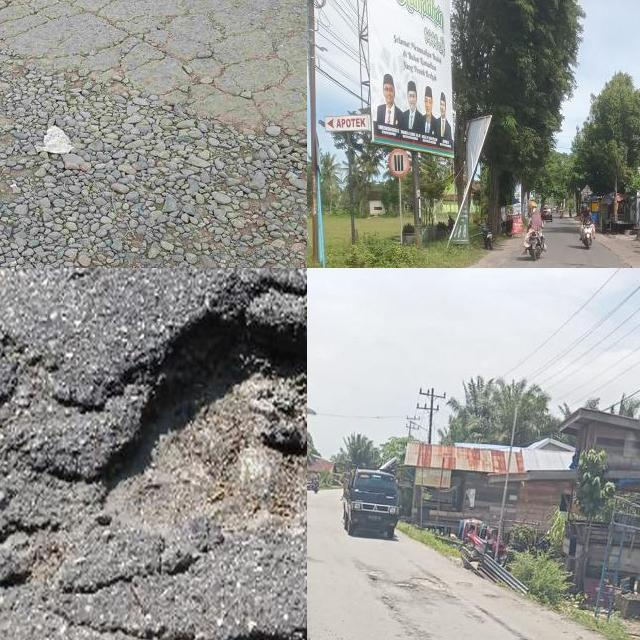Lubang: (90, 315, 307, 546)
